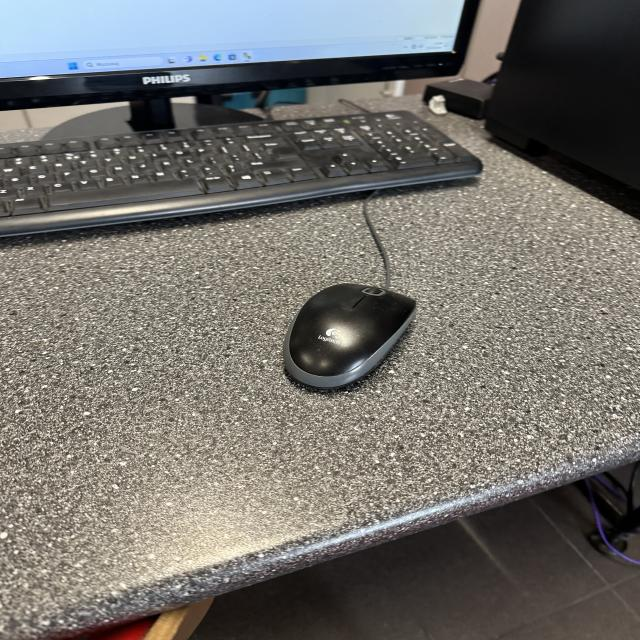mysz: (277, 274, 423, 396)
